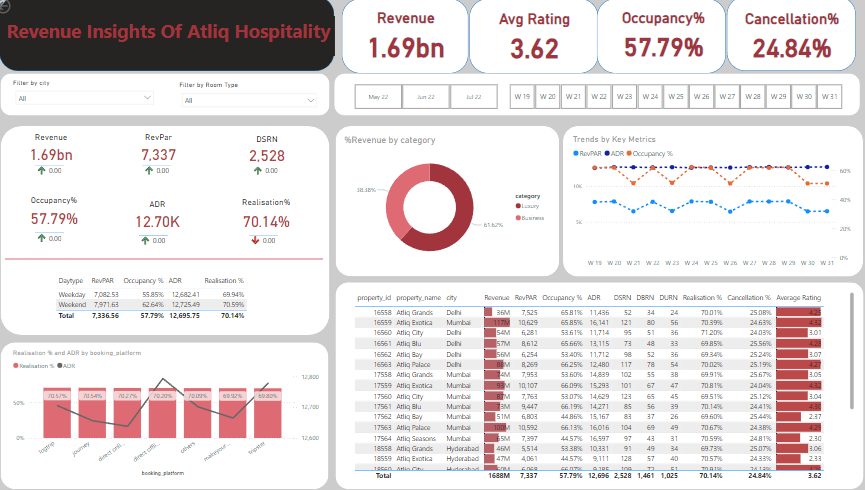

Layout of this report page (visuals, bound fields, positions):
{"tool":"powerbi","page":{"name":"Page 1","canvas":[1280,720],"ordinal":0},"visuals":[{"type":"tableEx","fields":{"Values":["dim_hotels.property_id","dim_hotels.property_name","dim_hotels.city","Key meaures.Revenue","Key meaures.RevPAR","Key meaures.Occupancy %","Key meaures.ADR","Key meaures.DSRN","Key meaures.DBRN","Key meaures.DURN","Key meaures.Realisation %","Key meaures.Cancellation %"]},"box":[321.2,360,958.8,351.2],"z":0},{"type":"slicer","title":"Filter by city","fields":{"Values":["dim_hotels.city"]},"box":[20,11.2,158.8,65],"z":1000},{"type":"slicer","title":"Filter by Room Type","fields":{"Values":["dim_rooms.room_class"]},"box":[185,11.2,158.8,65],"z":2000},{"type":"slicer","title":"Filter by Room Type","fields":{"Values":["dim_date.mmm yy"]},"box":[343.8,11.2,311.2,65],"z":3000},{"type":"slicer","title":"week No","fields":{"Values":["dim_date.week no"]},"box":[671.2,11.2,581.2,83.8],"z":4000},{"type":"donutChart","title":"%Revenue by category","fields":{"Category":["dim_hotels.category"],"Y":["Key meaures.Revenue"]},"box":[472.5,96.2,317.5,188.8],"z":5000},{"type":"card","title":"Realisation%","fields":{"Values":["Key meaures.Realisation %"]},"box":[303.8,191.2,127.5,66.2],"z":6000},{"type":"card","title":"Occupancy%","fields":{"Values":["Key meaures.Occupancy %"]},"box":[20,190,127.5,66.2],"z":7000},{"type":"card","title":"ADR","fields":{"Values":["Key meaures.ADR"]},"box":[163.8,191.2,127.5,66.2],"z":8000},{"type":"tableEx","fields":{"Values":["Key meaures.Revenue WoW change %"]},"box":[45,116.2,76.2,67.5],"z":9000},{"type":"card","title":"Revenue","fields":{"Values":["Key meaures.Revenue"]},"box":[20,83.8,127.5,66.2],"z":10000},{"type":"tableEx","fields":{"Values":["Key meaures.Revenue WoW change %"]},"box":[163.8,116.2,76.2,67.5],"z":11000},{"type":"tableEx","fields":{"Values":["Key meaures.Revenue WoW change %"]},"box":[291.2,116.2,76.2,67.5],"z":12000},{"type":"card","title":"DSRN","fields":{"Values":["Key meaures.DSRN"]},"box":[291.2,85,127.5,66.2],"z":13000},{"type":"card","title":"RevPar","fields":{"Values":["Key meaures.RevPAR"]},"box":[163.8,85,127.5,66.2],"z":14000},{"type":"lineChart","title":"Trends by Key Metrics","fields":{"Category":["dim_date.mmm yy.Variation.Date Hierarchy.Month","dim_date.week no"],"Y":["Key meaures.RevPAR","Key meaures.ADR"],"Y2":["Key meaures.Occupancy %"]},"box":[713.8,101.2,566.2,213.8],"z":14001},{"type":"lineStackedColumnComboChart","fields":{"Category":["fact_bookings.booking_platform"],"Y":["Key meaures.Realisation %"],"Y2":["Key meaures.ADR"]},"box":[0,477.5,621.2,242.5],"z":14002},{"type":"tableEx","fields":{"Values":["dim_date.Daytype","Key meaures.RevPAR","Key meaures.Occupancy %","Key meaures.ADR","Key meaures.Realisation %"]},"box":[8.8,323.8,410,108.8],"z":14003}]}

Visuals, with their boxes in screenshot pixels (x1, y1, x2, y2), scaled from the page's 1280x720 canvas onto the 865x490 screenshot:
tableEx - dim_hotels.property_id x dim_hotels.property_name: region(217, 245, 864, 484)
"Filter by city" slicer: region(14, 8, 121, 52)
"Filter by Room Type" slicer: region(125, 8, 232, 52)
"Filter by Room Type" slicer: region(232, 8, 443, 52)
"week No" slicer: region(454, 8, 846, 65)
"%Revenue by category" donutChart: region(319, 65, 534, 194)
"Realisation%" card: region(205, 130, 291, 175)
"Occupancy%" card: region(14, 129, 100, 174)
"ADR" card: region(111, 130, 197, 175)
tableEx - Key meaures.Revenue WoW change %: region(30, 79, 82, 125)
"Revenue" card: region(14, 57, 100, 102)
tableEx - Key meaures.Revenue WoW change %: region(111, 79, 162, 125)
tableEx - Key meaures.Revenue WoW change %: region(197, 79, 248, 125)
"DSRN" card: region(197, 58, 283, 103)
"RevPar" card: region(111, 58, 197, 103)
"Trends by Key Metrics" lineChart: region(482, 69, 864, 214)
lineStackedColumnComboChart - fact_bookings.booking_platform x Key meaures.Realisation %: region(0, 325, 420, 489)
tableEx - dim_date.Daytype x Key meaures.RevPAR: region(6, 220, 283, 294)
